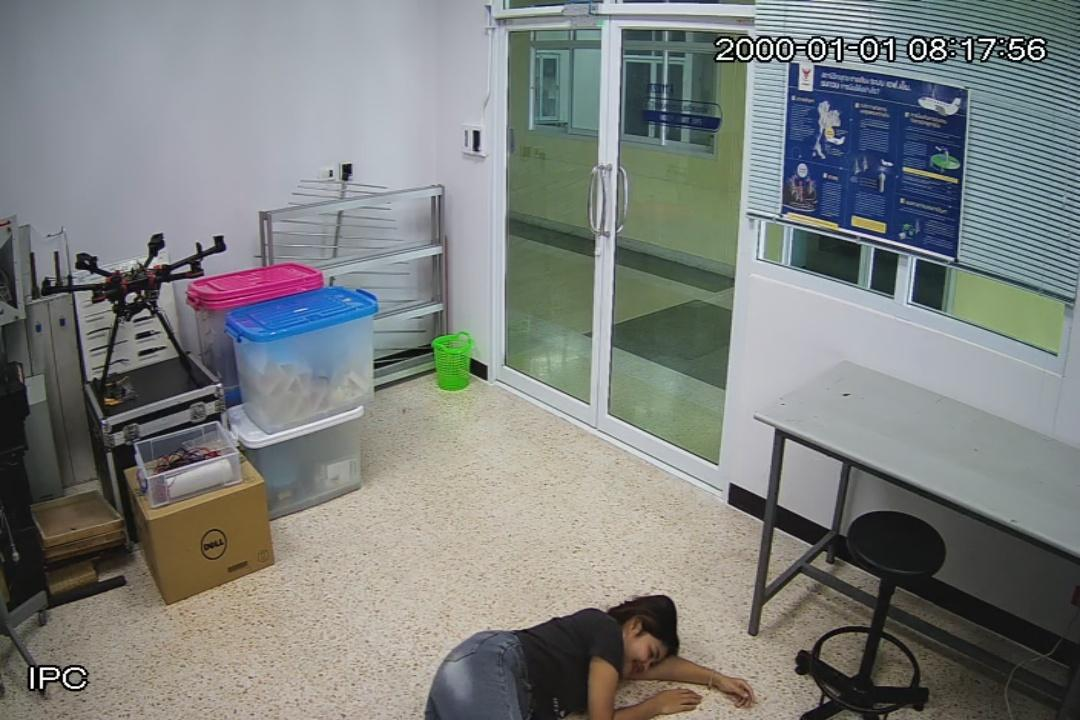fall: (418, 594, 752, 720)
